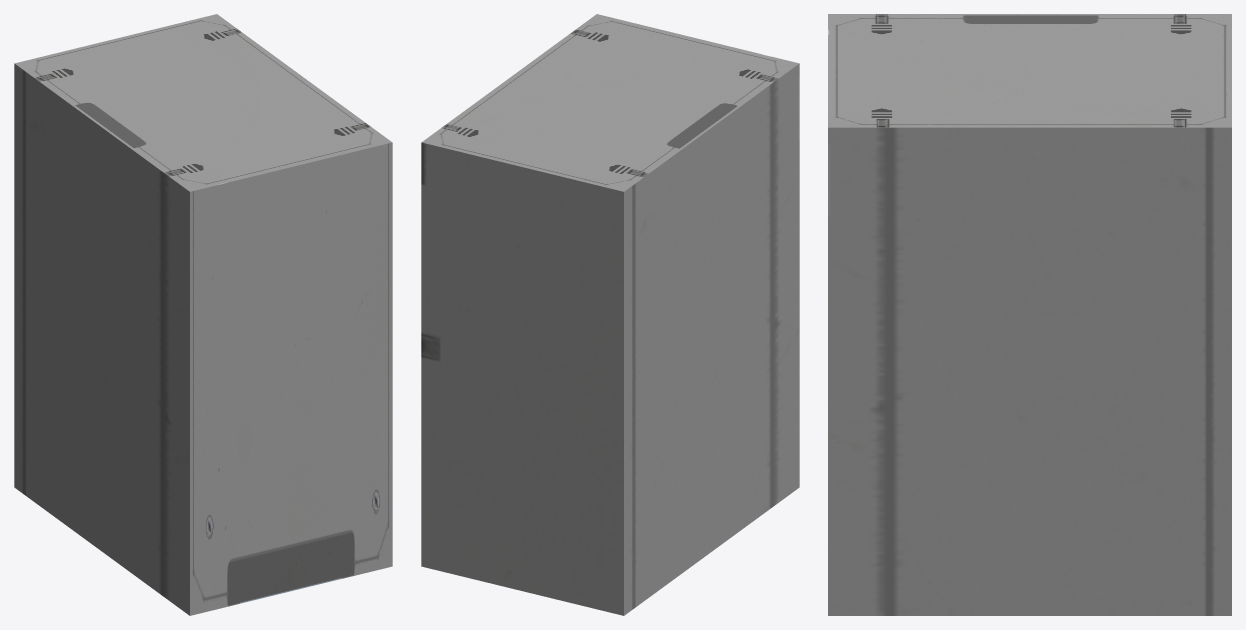
The model's file is SM_ModuGate3_L1.fbx.
The picture shows the model from 3 angles, left to right: view 1: azimuth 30°, elevation 25°; view 2: azimuth 150°, elevation 25°; view 3: azimuth 270°, elevation 25°; orthographic projection. The views are drawn at different scales.
Visible parts, largest first — view 1: SM_ModuGate3_L1_LOD0; view 2: SM_ModuGate3_L1_LOD0; view 3: SM_ModuGate3_L1_LOD0.
Boxes of the visible parts, x1,y1,x2,y2 form: SM_ModuGate3_L1_LOD0: [14, 14, 392, 615]; SM_ModuGate3_L1_LOD0: [421, 14, 799, 615]; SM_ModuGate3_L1_LOD0: [828, 14, 1231, 615].
Bounding box in the file's own units: 40 × 60 × 80.
Materials: 1 (1 with a texture image).
